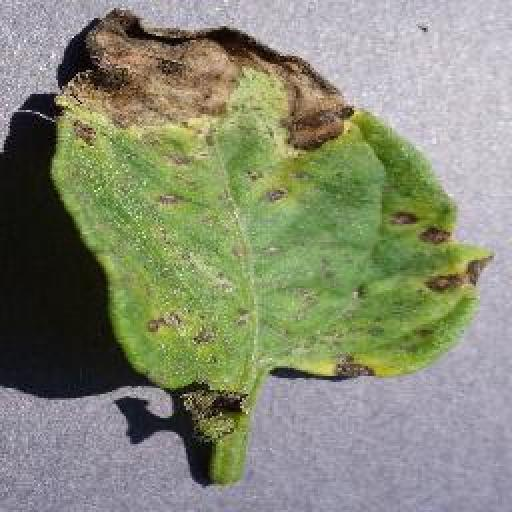Septoria: (56, 2, 498, 394)
